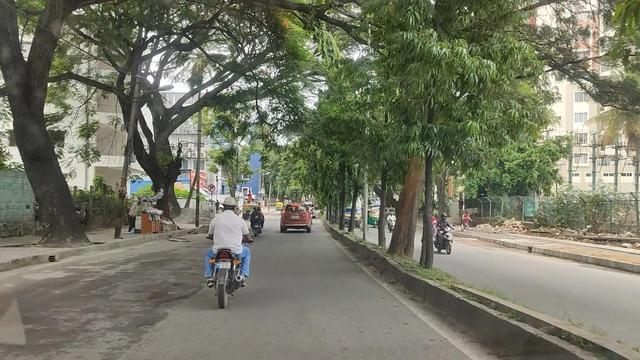LMV: (215, 197, 239, 305), (283, 202, 310, 229)
RoadDamages: (143, 281, 196, 332)
